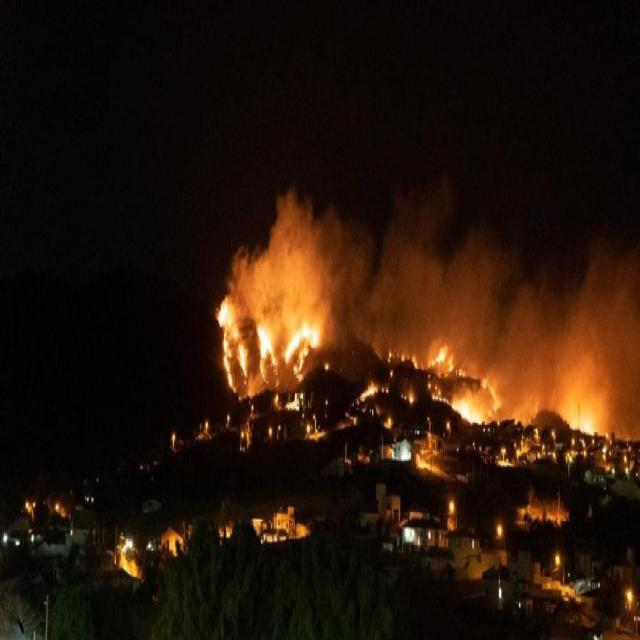Fire: (217, 296, 248, 379), (283, 314, 325, 364), (566, 394, 600, 434), (254, 322, 277, 378), (451, 393, 482, 425), (220, 334, 234, 392), (292, 349, 308, 384), (427, 344, 448, 364), (362, 379, 376, 396)
Smoke: (507, 232, 640, 370), (360, 206, 433, 360)
